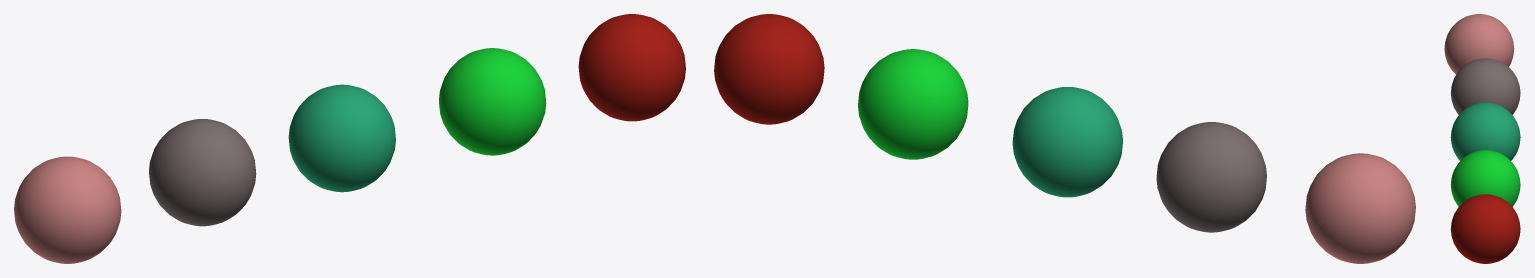
Rendered from sceneCircles2.gltf.
The picture shows the model from 3 angles, left to right: view 1: azimuth 30°, elevation 25°; view 2: azimuth 150°, elevation 25°; view 3: azimuth 270°, elevation 25°; orthographic projection. The views are drawn at different scales.
Visible parts, largest first — view 1: Sphere (×5); view 2: Sphere (×5); view 3: Sphere (×5).
Part boxes in pixels (x1=…): Sphere (×5): x1=14, y1=14, x2=685, y2=263; Sphere (×5): x1=714, y1=14, x2=1415, y2=263; Sphere (×5): x1=1444, y1=14, x2=1520, y2=263.
Size of what is drawn, in the model's own units: 14.22 by 2 by 2.18.
